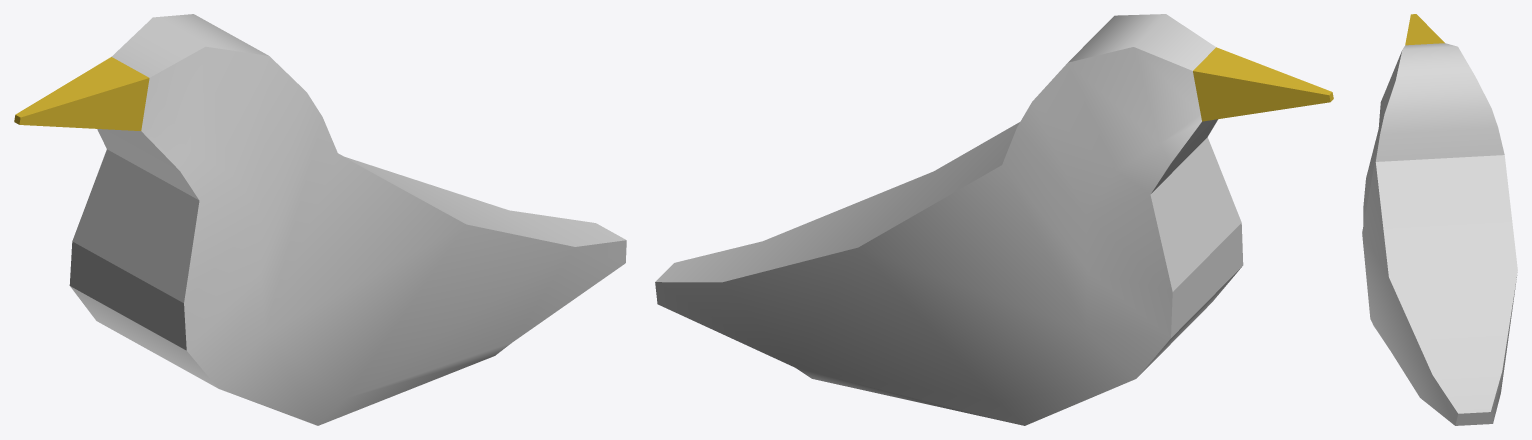
The model's file is bird_test.fbx.
The picture shows the model from 3 angles, left to right: view 1: azimuth 30°, elevation 25°; view 2: azimuth 150°, elevation 25°; view 3: azimuth 270°, elevation 25°; orthographic projection. The views are drawn at different scales.
Parts seen in each view (by area): view 1: Cube; view 2: Cube; view 3: Cube.
Boxes of the visible parts, x1=… form: Cube: x1=14, y1=14, x2=626, y2=425; Cube: x1=655, y1=14, x2=1333, y2=425; Cube: x1=1362, y1=14, x2=1517, y2=425.
Size of the model in its own units: 722 by 424 by 234.
